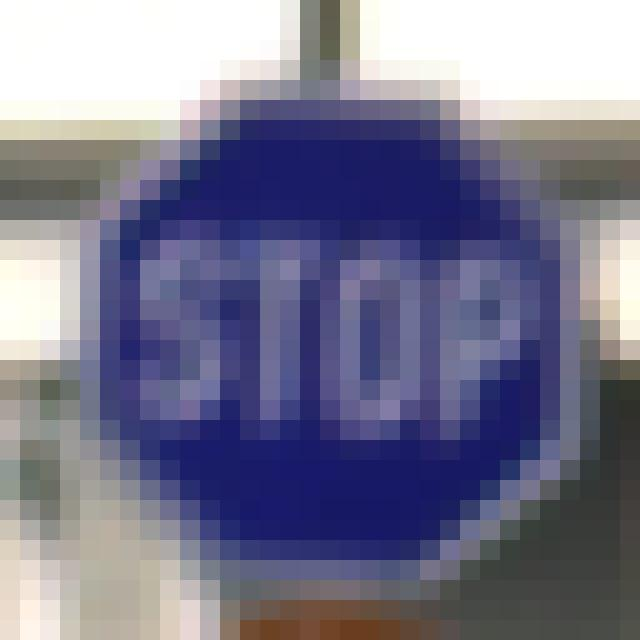STOP: (82, 100, 576, 580)
